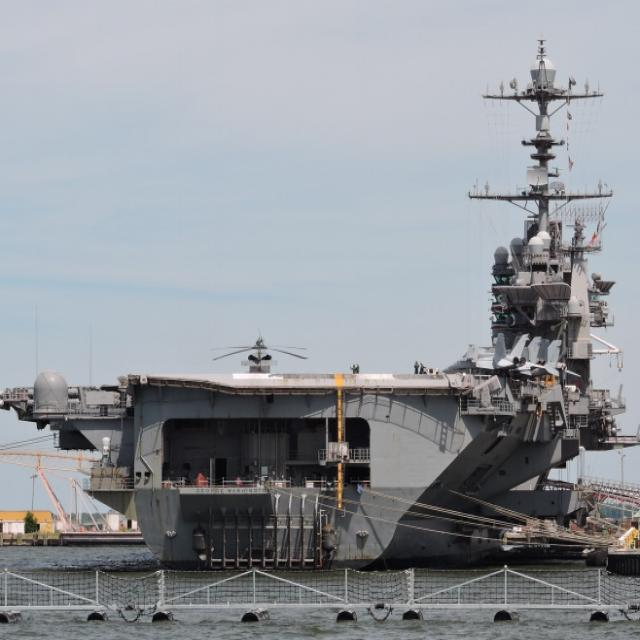Portanaves: (1, 21, 640, 573)
